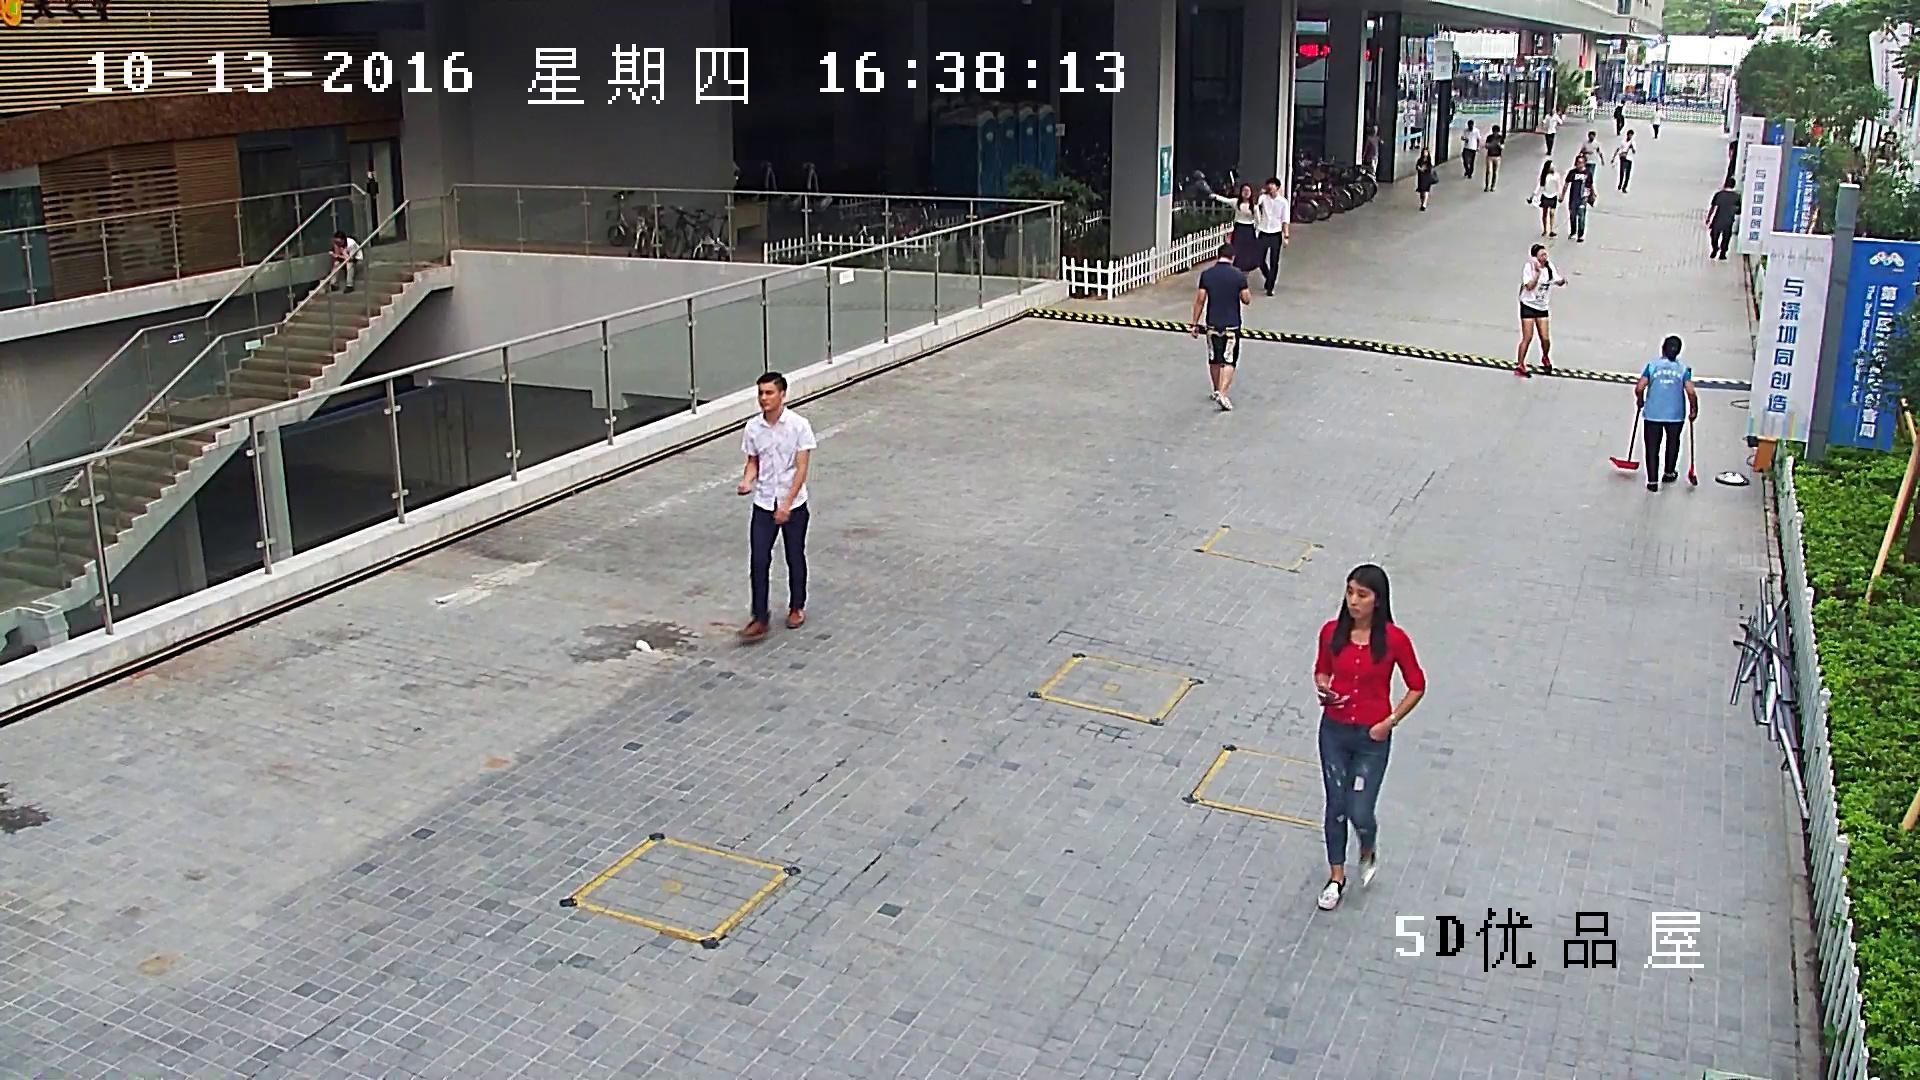person: (1310, 563, 1427, 910), (734, 370, 817, 641), (1608, 334, 1698, 494), (1608, 334, 1699, 493), (1190, 242, 1251, 411), (1515, 242, 1565, 377), (1207, 181, 1261, 275), (1254, 177, 1293, 296), (1557, 155, 1596, 242), (1705, 176, 1740, 259), (1525, 160, 1561, 237), (324, 230, 364, 295), (1579, 130, 1604, 207), (1609, 129, 1635, 193), (1414, 147, 1439, 212), (1483, 125, 1504, 191), (1460, 119, 1481, 178), (1541, 106, 1562, 156), (1724, 130, 1740, 184), (1363, 128, 1378, 183), (1614, 99, 1626, 136), (1651, 104, 1662, 140), (1884, 125, 1897, 142)
